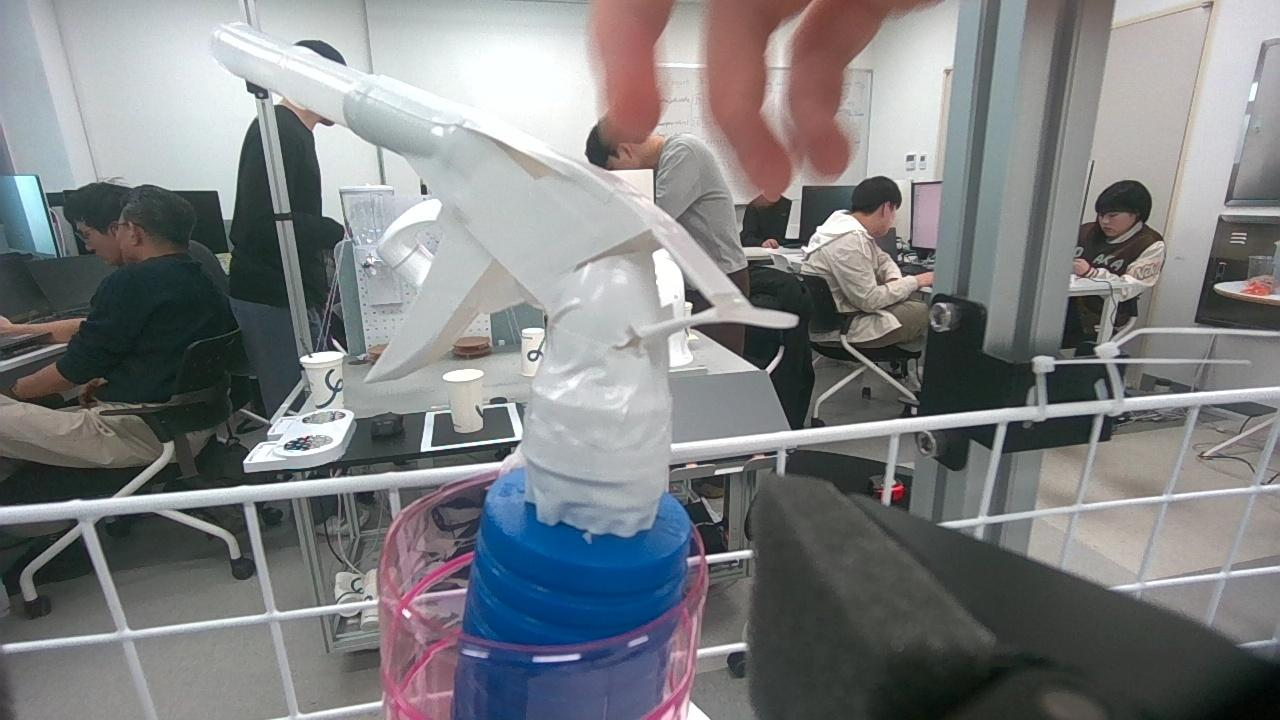Nozzle: (340, 63, 745, 683)
